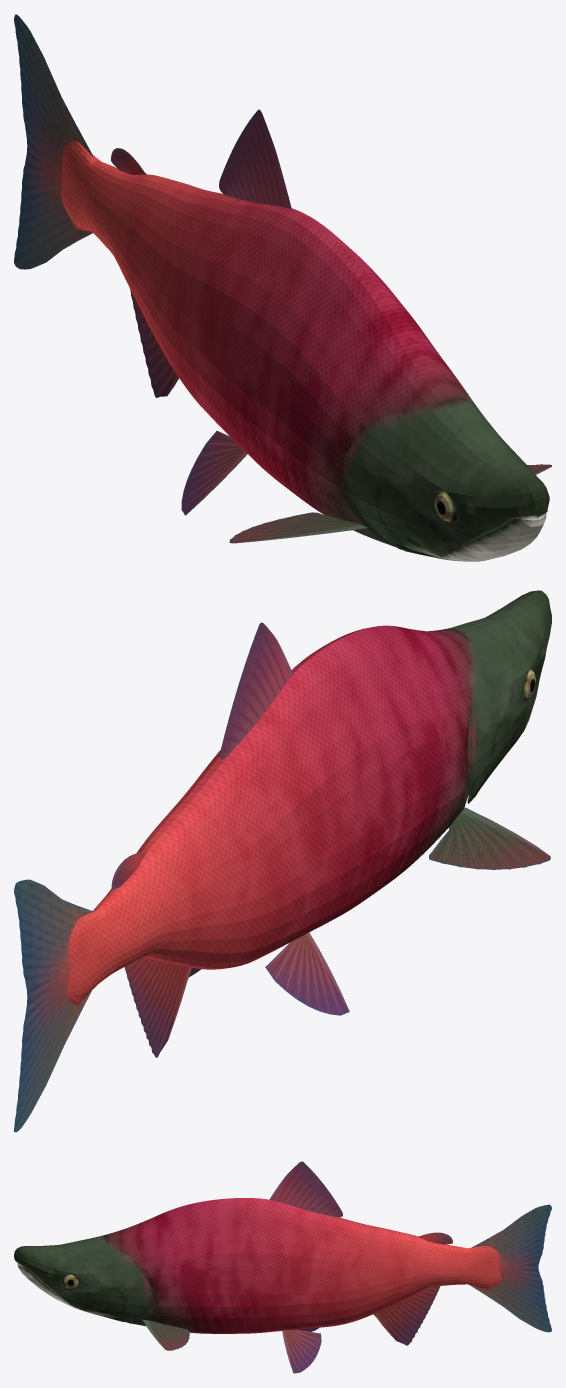
File: salmon.Fbx
3 renders of one model, top to bottom at view 1: azimuth 30°, elevation 25°; view 2: azimuth 150°, elevation 25°; view 3: azimuth 270°, elevation 25°, orthographic. The views are drawn at different scales.
Visible parts, largest first — view 1: ___DUMMY_BODY01L, ___DUMMY_TAIL01L, ___DUMMY_BACK01L, ___DUMMY_WAIST01R, ___DUMMY_BUST01R, ___DUMMY_HIP01L; view 2: ___DUMMY_BODY01L, ___DUMMY_TAIL01L, ___DUMMY_BUST01R, ___DUMMY_BACK01L, ___DUMMY_HIP01L, ___DUMMY_WAIST01R; view 3: ___DUMMY_BODY01L, ___DUMMY_TAIL01L, ___DUMMY_BACK01L, ___DUMMY_HIP01L, ___DUMMY_WAIST01L, ___DUMMY_BUST01L, ___DUMMY_BACK02L.
Boxes of the visible parts, box(x1,y1,x2,y2) form: ___DUMMY_BODY01L: box(61, 141, 549, 561); ___DUMMY_TAIL01L: box(14, 14, 93, 269); ___DUMMY_BACK01L: box(219, 109, 291, 209); ___DUMMY_WAIST01R: box(181, 431, 247, 515); ___DUMMY_BUST01R: box(229, 512, 367, 543); ___DUMMY_HIP01L: box(130, 289, 178, 397); ___DUMMY_BODY01L: box(67, 590, 551, 1005); ___DUMMY_TAIL01L: box(14, 879, 93, 1132); ___DUMMY_BUST01R: box(429, 807, 550, 869); ___DUMMY_BACK01L: box(220, 622, 292, 759); ___DUMMY_HIP01L: box(125, 957, 191, 1057); ___DUMMY_WAIST01R: box(265, 932, 349, 1015); ___DUMMY_BODY01L: box(14, 1198, 500, 1333); ___DUMMY_TAIL01L: box(469, 1204, 551, 1332); ___DUMMY_BACK01L: box(269, 1161, 342, 1217); ___DUMMY_HIP01L: box(373, 1286, 440, 1345); ___DUMMY_WAIST01L: box(282, 1329, 321, 1373); ___DUMMY_BUST01L: box(142, 1319, 189, 1350); ___DUMMY_BACK02L: box(417, 1232, 452, 1244).
Bounding box in the file's own units: 13.84 × 39.81 × 15.67.
1 material, 1 textured.
